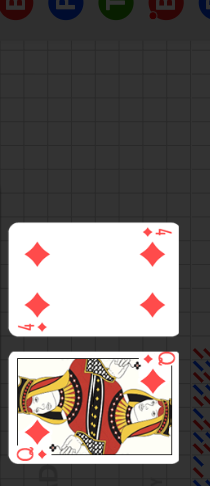4D: (141, 226, 172, 238)
QD: (132, 364, 179, 408), (12, 431, 58, 475)
